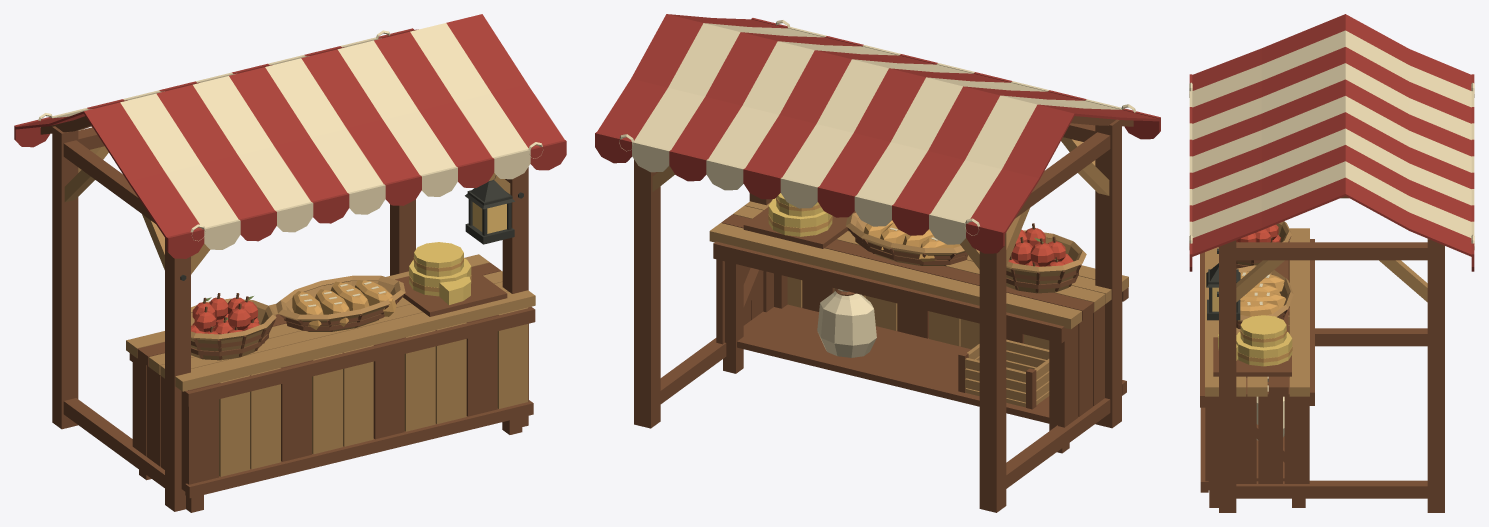
The model's file is jualan.glb.
3 views of the same model, side by side, from view 1: azimuth 30°, elevation 25°; view 2: azimuth 150°, elevation 25°; view 3: azimuth 270°, elevation 25° (orthographic). The views are drawn at different scales.
Visible parts, largest first — view 1: marketstall.counter.planks, marketstall.counter.dark_planks, marketstall.counter.support, marketstall.counter.top, marketstall.awning.stripe_1, marketstall.frame.rear_left, marketstall.awning.stripe_3, marketstall.awning.stripe_5, marketstall.awning.stripe_2, marketstall.awning.stripe_6, marketstall.awning.stripe_8, marketstall.awning.stripe_10 (+20 smaller); view 2: marketstall.counter.support, marketstall.counter.top, marketstall.awning.stripe_1, marketstall.counter.dark_planks, marketstall.frame.rear_left, marketstall.frame.rails, marketstall.frame.rear_right, marketstall.awning.stripe_7, marketstall.awning.stripe_6, marketstall.awning.stripe_4, marketstall.awning.stripe_5, marketstall.awning.stripe_9 (+20 smaller); view 3: marketstall.frame.rails, marketstall.counter.dark_planks, marketstall.awning.stripe_11, marketstall.counter.top, marketstall.frame.rear_right, marketstall.awning.stripe_6, marketstall.awning.stripe_5, marketstall.awning.stripe_9, marketstall.awning.stripe_3, marketstall.awning.stripe_7, marketstall.awning.stripe_4, marketstall.awning.stripe_2 (+14 smaller).
Boxes of the visible parts, x1=… form: marketstall.counter.planks: x1=219, y1=307, x2=528, y2=476; marketstall.counter.dark_planks: x1=132, y1=307, x2=528, y2=491; marketstall.counter.support: x1=129, y1=306, x2=535, y2=512; marketstall.counter.top: x1=126, y1=254, x2=535, y2=391; marketstall.awning.stripe_1: x1=14, y1=102, x2=204, y2=258; marketstall.frame.rear_left: x1=52, y1=126, x2=78, y2=429; marketstall.awning.stripe_3: x1=87, y1=85, x2=276, y2=241; marketstall.awning.stripe_5: x1=159, y1=67, x2=349, y2=223; marketstall.awning.stripe_2: x1=52, y1=93, x2=240, y2=249; marketstall.awning.stripe_6: x1=196, y1=58, x2=385, y2=214; marketstall.awning.stripe_8: x1=268, y1=40, x2=457, y2=196; marketstall.awning.stripe_10: x1=340, y1=23, x2=530, y2=179; marketstall.counter.support: x1=713, y1=241, x2=1128, y2=453; marketstall.counter.top: x1=709, y1=201, x2=1128, y2=329; marketstall.awning.stripe_1: x1=966, y1=104, x2=1160, y2=253; marketstall.counter.dark_planks: x1=716, y1=259, x2=1122, y2=427; marketstall.frame.rear_left: x1=979, y1=232, x2=1006, y2=512; marketstall.frame.rails: x1=660, y1=116, x2=1133, y2=488; marketstall.frame.rear_right: x1=634, y1=159, x2=660, y2=428; marketstall.awning.stripe_7: x1=743, y1=50, x2=937, y2=199; marketstall.awning.stripe_6: x1=780, y1=59, x2=974, y2=208; marketstall.awning.stripe_4: x1=854, y1=77, x2=1049, y2=226; marketstall.awning.stripe_5: x1=817, y1=68, x2=1011, y2=217; marketstall.awning.stripe_9: x1=669, y1=32, x2=863, y2=181; marketstall.frame.rails: x1=1236, y1=196, x2=1427, y2=498; marketstall.counter.dark_planks: x1=1205, y1=241, x2=1309, y2=490; marketstall.awning.stripe_11: x1=1189, y1=177, x2=1474, y2=271; marketstall.counter.top: x1=1205, y1=228, x2=1309, y2=396; marketstall.frame.rear_right: x1=1427, y1=239, x2=1444, y2=512; marketstall.awning.stripe_6: x1=1189, y1=96, x2=1474, y2=172; marketstall.awning.stripe_5: x1=1189, y1=79, x2=1474, y2=156; marketstall.awning.stripe_9: x1=1189, y1=145, x2=1474, y2=221; marketstall.awning.stripe_3: x1=1189, y1=47, x2=1474, y2=123; marketstall.awning.stripe_7: x1=1189, y1=112, x2=1474, y2=189; marketstall.awning.stripe_4: x1=1189, y1=63, x2=1474, y2=139; marketstall.awning.stripe_2: x1=1189, y1=30, x2=1474, y2=107.
Bounding box in the file's own units: 3.14 × 2.68 × 2.1.
